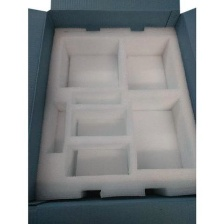foam_box: (32, 21, 195, 204)
